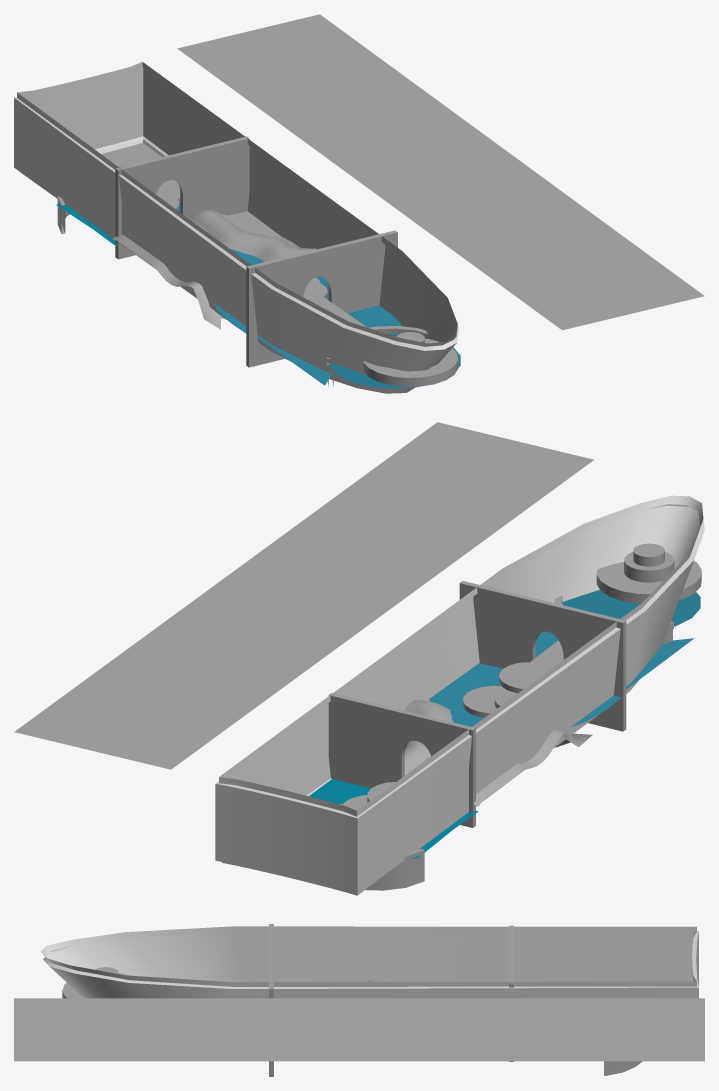
File: springlevel.fbx
3 renders of one model, top to bottom at view 1: azimuth 30°, elevation 25°; view 2: azimuth 150°, elevation 25°; view 3: azimuth 270°, elevation 25°, orthographic. The views are drawn at different scales.
Visible parts, largest first — view 1: pPlane2, pPlane11, pCube8, pCube7, pPlane10, pCylinder23, pPlane9, pCylinder7, pCylinder18; view 2: pPlane2, pPlane11, pCube8, pCube7, pCylinder23, pPlane9, pPlane10, pCylinder18, pCylinder7, pPipe4, pCylinder16, pCylinder25; view 3: pPlane11, pPlane2, pCube8, pPipe4, pCylinder23, pCube7.
Boxes of the visible parts, x1=… form: pPlane2: x1=177, y1=14, x2=704, y2=330; pPlane11: x1=14, y1=62, x2=458, y2=393; pCube8: x1=246, y1=230, x2=397, y2=367; pCube7: x1=115, y1=136, x2=249, y2=259; pPlane10: x1=112, y1=210, x2=316, y2=329; pCylinder23: x1=363, y1=332, x2=458, y2=386; pPlane9: x1=215, y1=249, x2=402, y2=385; pCylinder7: x1=303, y1=280, x2=367, y2=327; pCylinder18: x1=329, y1=333, x2=460, y2=388; pPlane2: x1=14, y1=422, x2=593, y2=769; pPlane11: x1=215, y1=495, x2=704, y2=895; pCube8: x1=459, y1=581, x2=626, y2=731; pCube7: x1=328, y1=693, x2=475, y2=827; pCylinder23: x1=596, y1=543, x2=701, y2=603; pPlane9: x1=429, y1=631, x2=694, y2=727; pPlane10: x1=404, y1=700, x2=592, y2=806; pCylinder18: x1=562, y1=589, x2=700, y2=626; pCylinder7: x1=499, y1=640, x2=563, y2=693; pPipe4: x1=365, y1=849, x2=424, y2=890; pCylinder16: x1=309, y1=779, x2=477, y2=858; pCylinder25: x1=463, y1=685, x2=503, y2=717; pPlane11: x1=40, y1=926, x2=698, y2=998; pPlane2: x1=14, y1=998, x2=704, y2=1061; pCube8: x1=269, y1=924, x2=273, y2=1076; pPipe4: x1=604, y1=1061, x2=642, y2=1075; pCylinder23: x1=62, y1=967, x2=130, y2=998; pCube7: x1=509, y1=925, x2=513, y2=1061.
Bounding box in the file's own units: 1473 × 462 × 3110.
